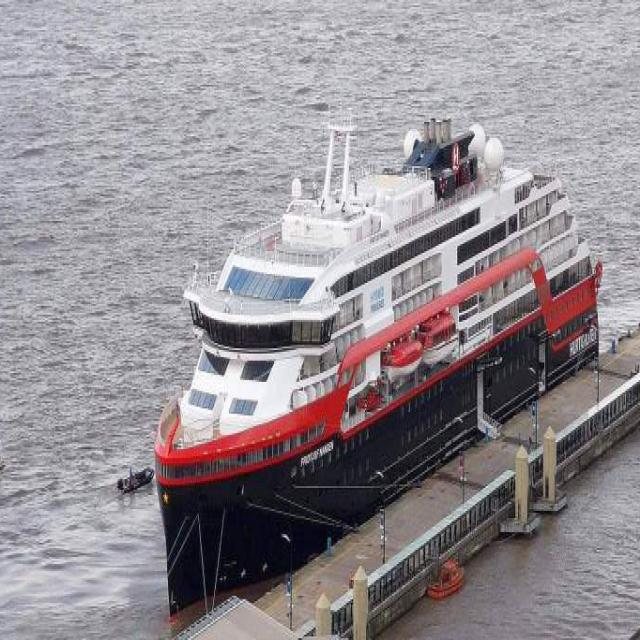cruises: (144, 86, 613, 630)
